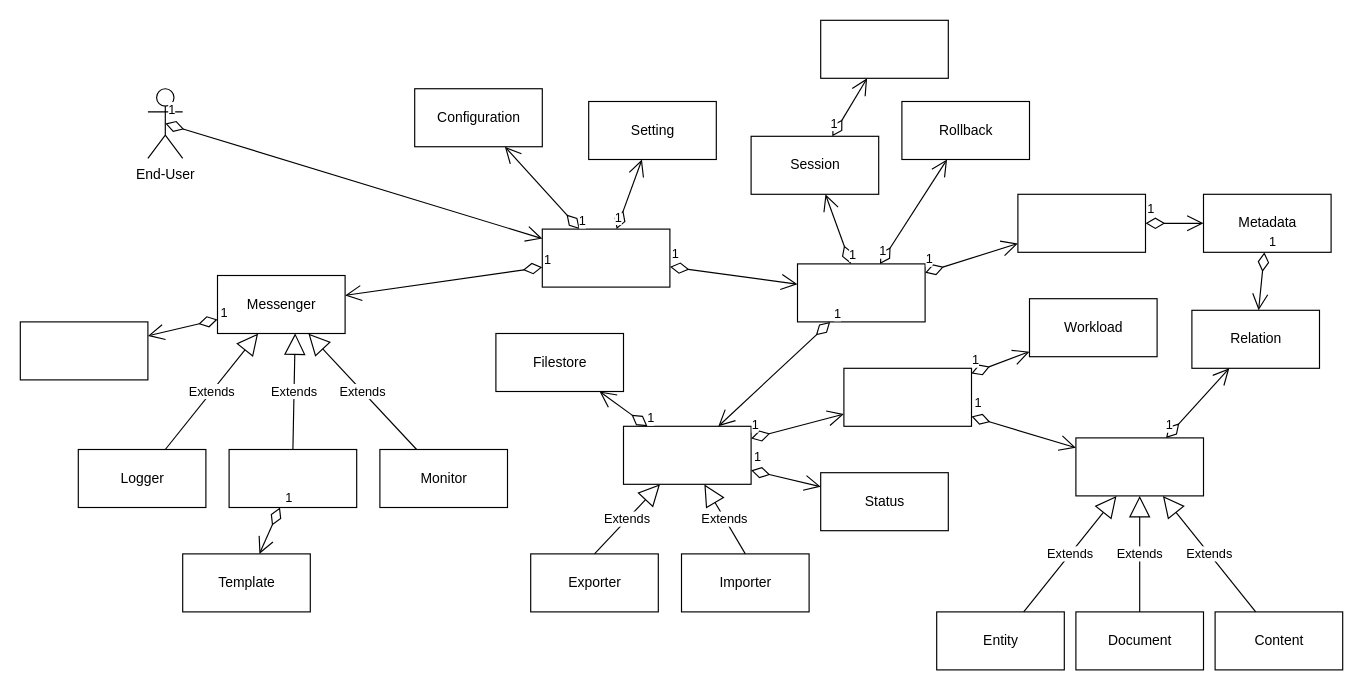
Some shapes in this 1363 by 690 pixel diagram are drawn without their labels. Here are the shapes that lost their labels. From the top down, the centre of each, then its label:
(x=884, y=48): AppWorks
(x=1081, y=222): Mapping
(x=605, y=257): Client
(x=860, y=292): Connector
(x=83, y=350): Confirmation
(x=907, y=396): Processor
(x=686, y=454): Action
(x=1139, y=466): Item
(x=292, y=477): Mail
